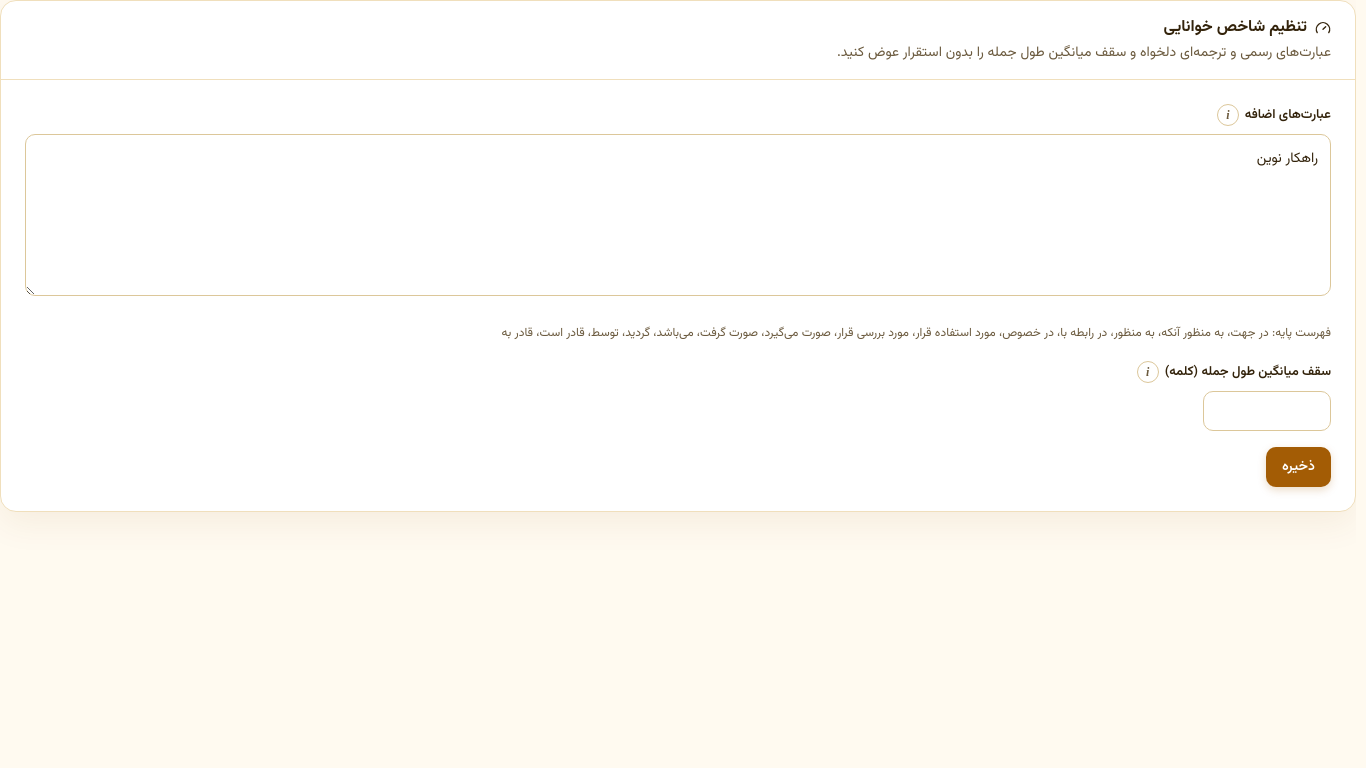
Test: ReadabilitySettingsCard › refuses a limit out of range
Type "2" into the number field labelled "سقف میانگین طول جمله (کلمه)".
click(1267, 411); type("2")  # box [1203,391,1331,431]
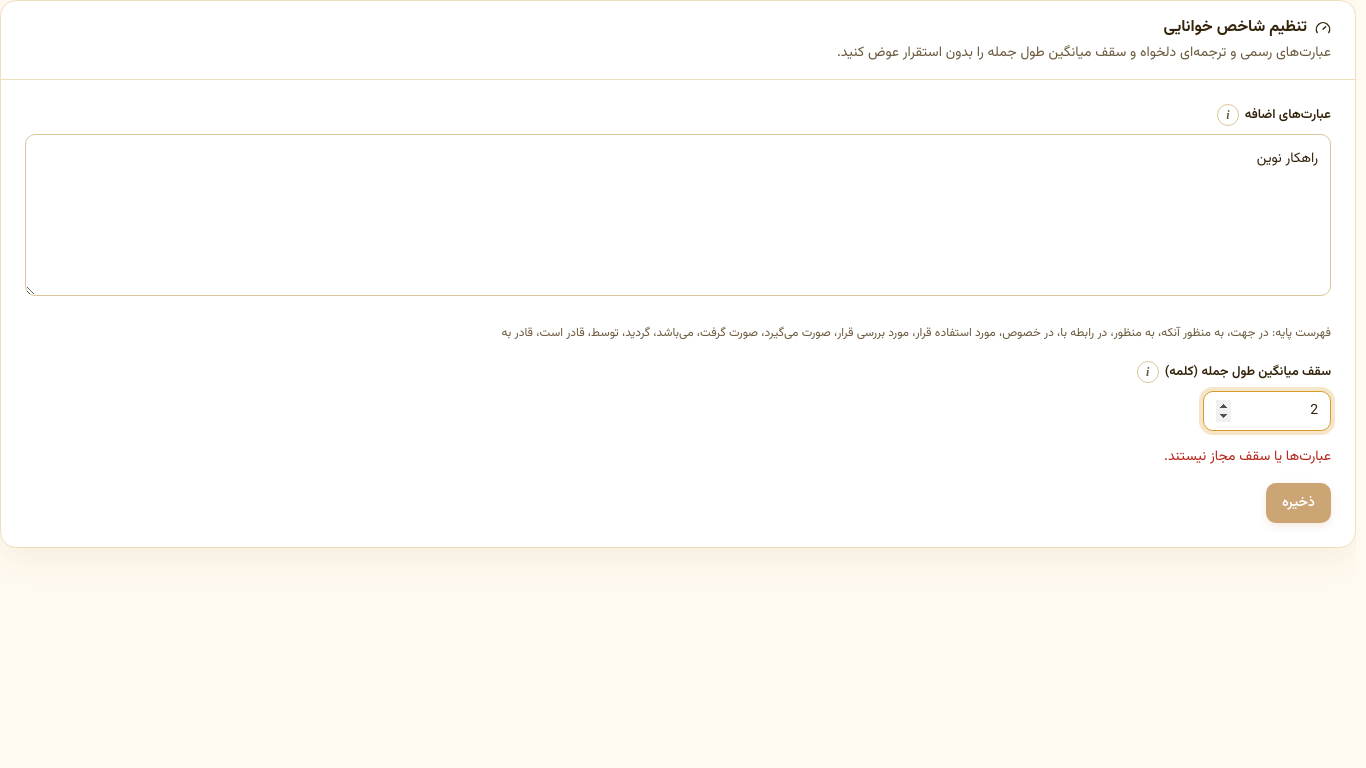
Now the button "ذخیره" is disabled, box [1266,483,1331,523]
Now the text "عبارت‌ها یا سقف مجاز نیستند." is shown, box [1164,446,1331,468]
